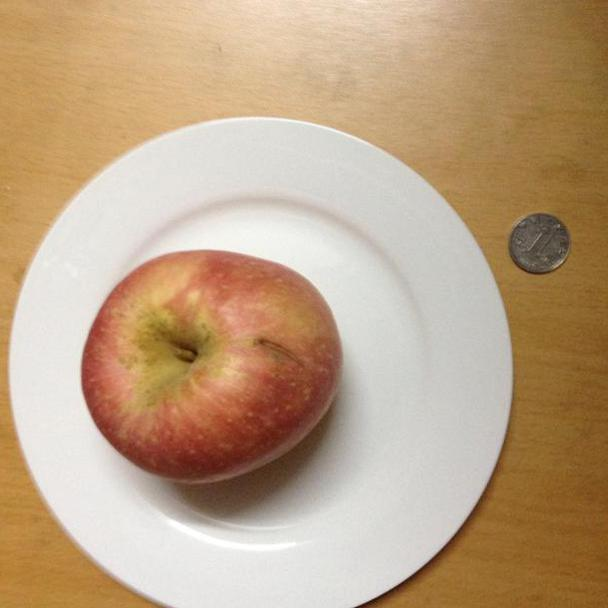apple: (81, 249, 344, 486)
